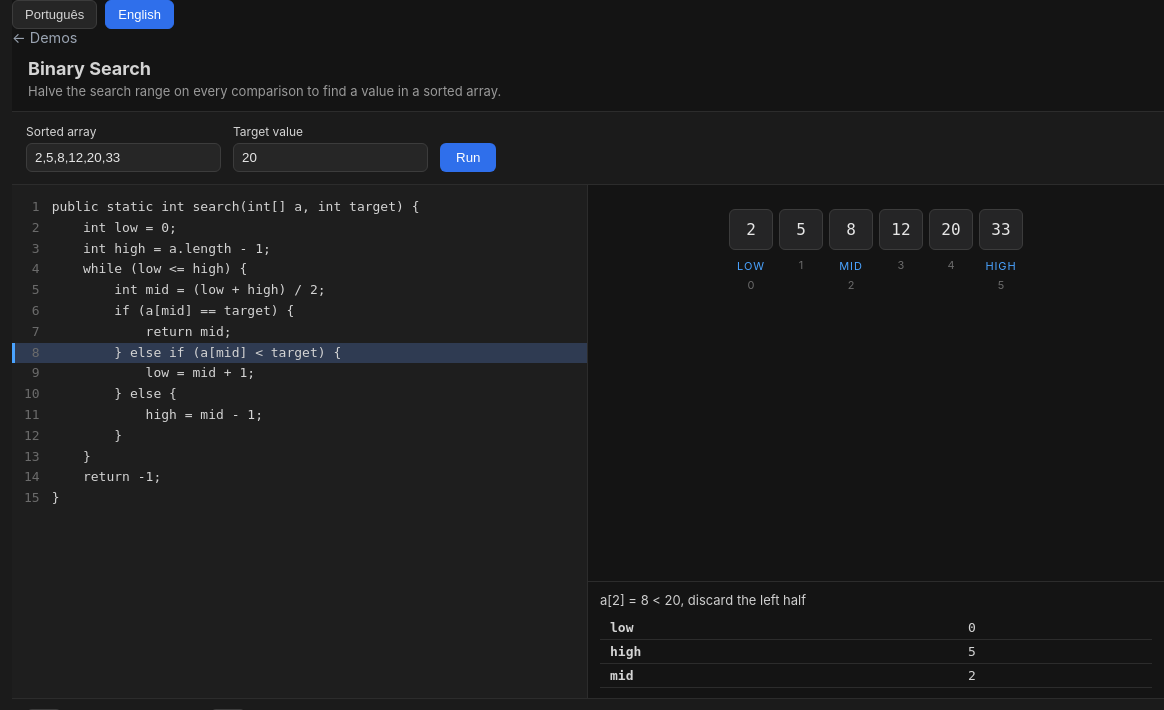
DemoScreen › keeps the previous trace and shows the server message when a run fails
This screenshot has width=1164, height=710.
Click the button "Run". click: (468, 158)
box: [440,143,496,172]
(page scrolled)
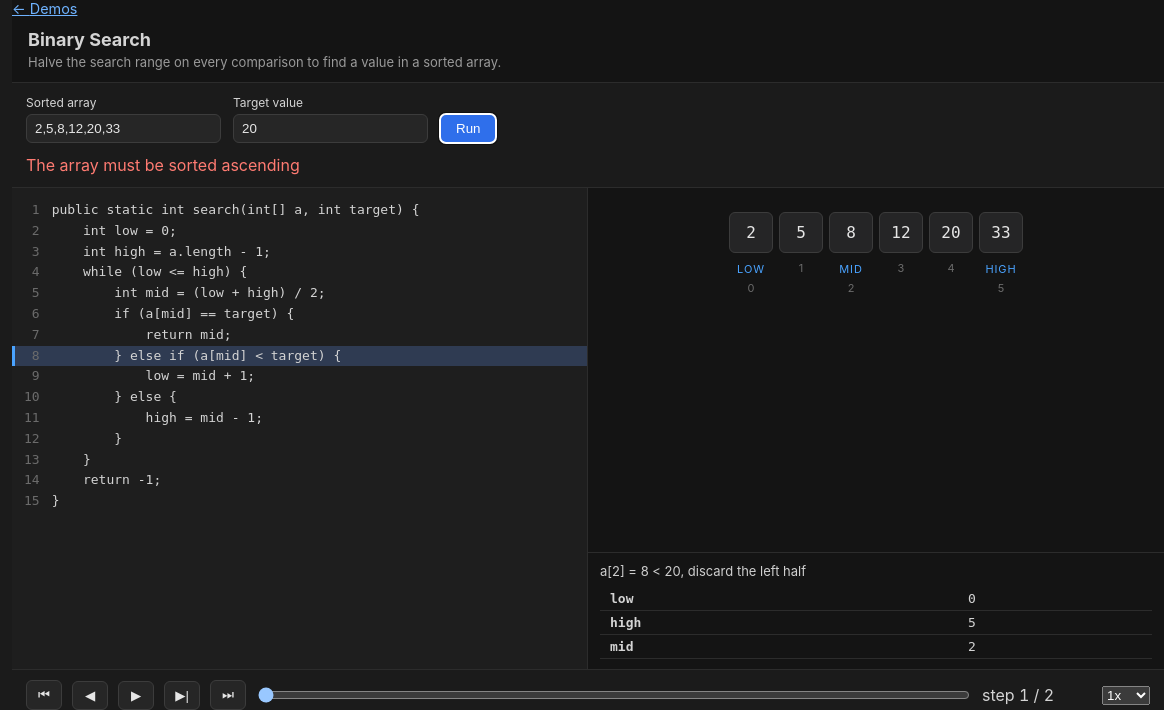
Result: the message reads "The array must be sorted ascending" at [26,155,300,175]
